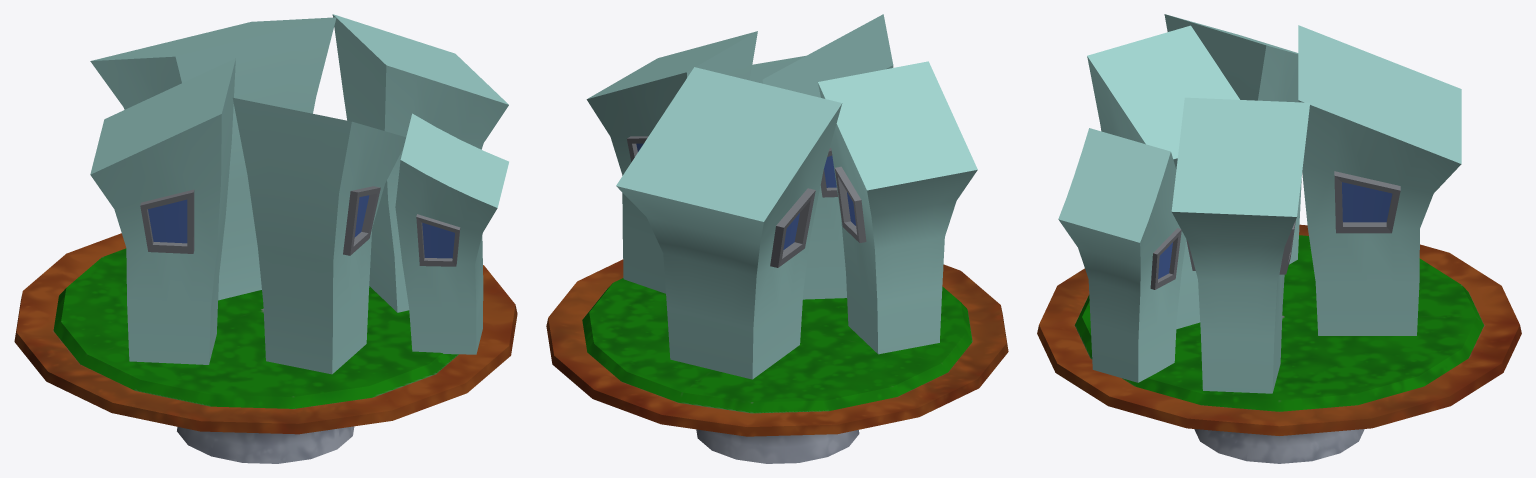
Rendered from builstage.fbx.
3 renders of one model, left to right at view 1: azimuth 30°, elevation 25°; view 2: azimuth 150°, elevation 25°; view 3: azimuth 270°, elevation 25°, orthographic. The views are drawn at different scales.
Visible parts, largest first — view 1: pCube6; view 2: pCube6; view 3: pCube6.
Part boxes in pixels (box(x1,y1,x2,y2)): pCube6: box(14, 14, 517, 463); pCube6: box(546, 14, 1008, 463); pCube6: box(1037, 14, 1521, 463).
Bounding box in the file's own units: 3.98 × 3.3 × 3.98.
Materials: 1 (1 with a texture image).
